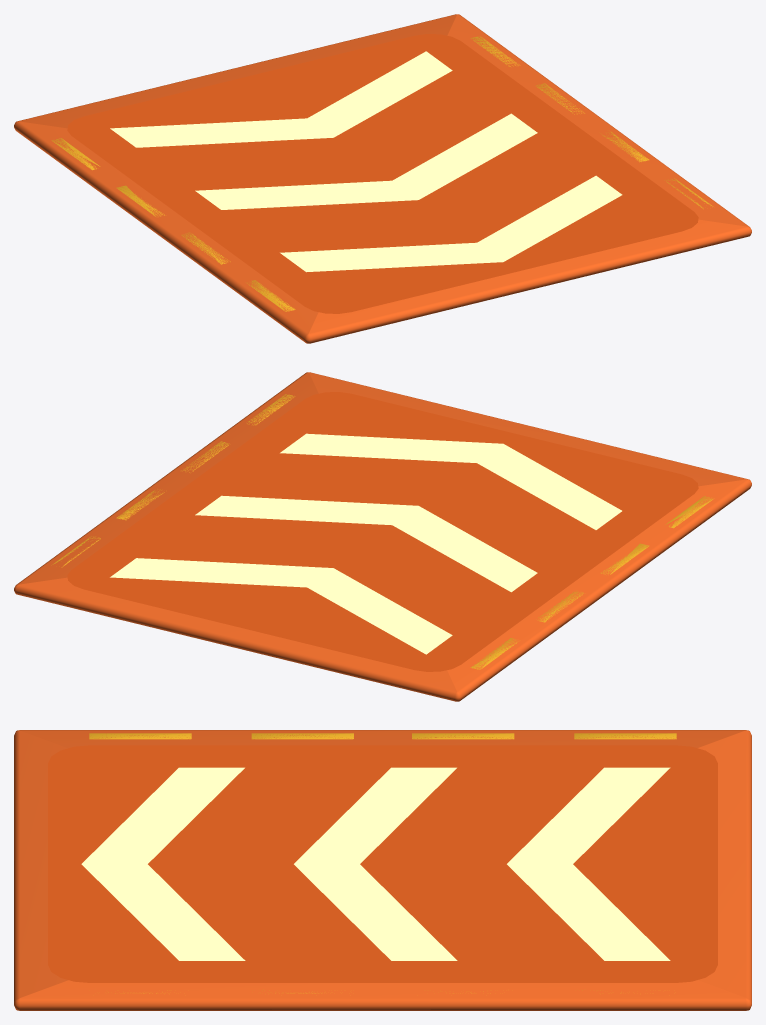
The model's file is deco-turbo.glb.
3 views of the same model, one above another, from view 1: azimuth 30°, elevation 25°; view 2: azimuth 150°, elevation 25°; view 3: azimuth 270°, elevation 25° (orthographic). The views are drawn at different scales.
Visible parts, largest first — view 1: deco-turbo; view 2: deco-turbo; view 3: deco-turbo.
Boxes of the visible parts, x1,y1,x2,y2 form: deco-turbo: [14, 14, 751, 343]; deco-turbo: [14, 372, 751, 701]; deco-turbo: [14, 730, 751, 1010].
Bounding box in the file's own units: 7 × 0.1504 × 8.
